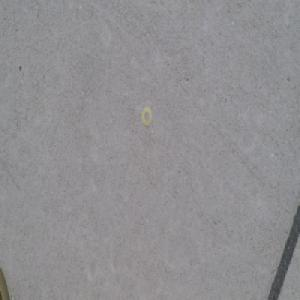Washer: (141, 107, 152, 127)
